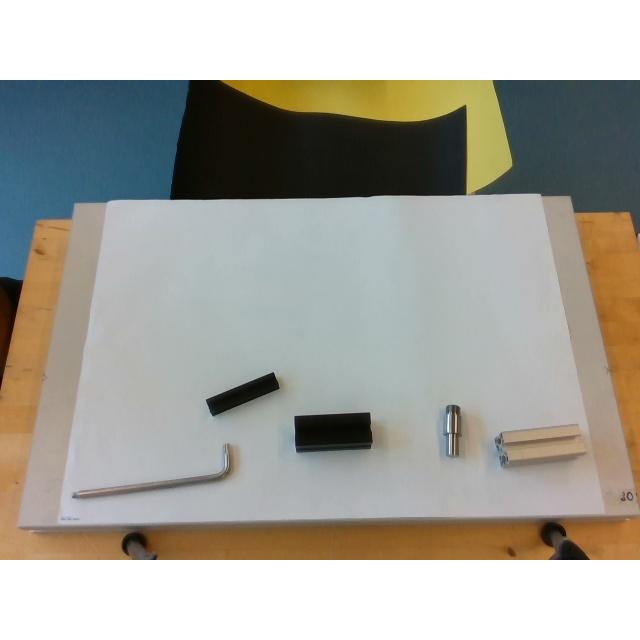AllenKey: (72, 442, 230, 498)
Axis2: (444, 404, 460, 456)
F20_20_B: (206, 372, 278, 416)
S40_40_B: (294, 412, 372, 452)
S40_40_G: (495, 424, 585, 466)
